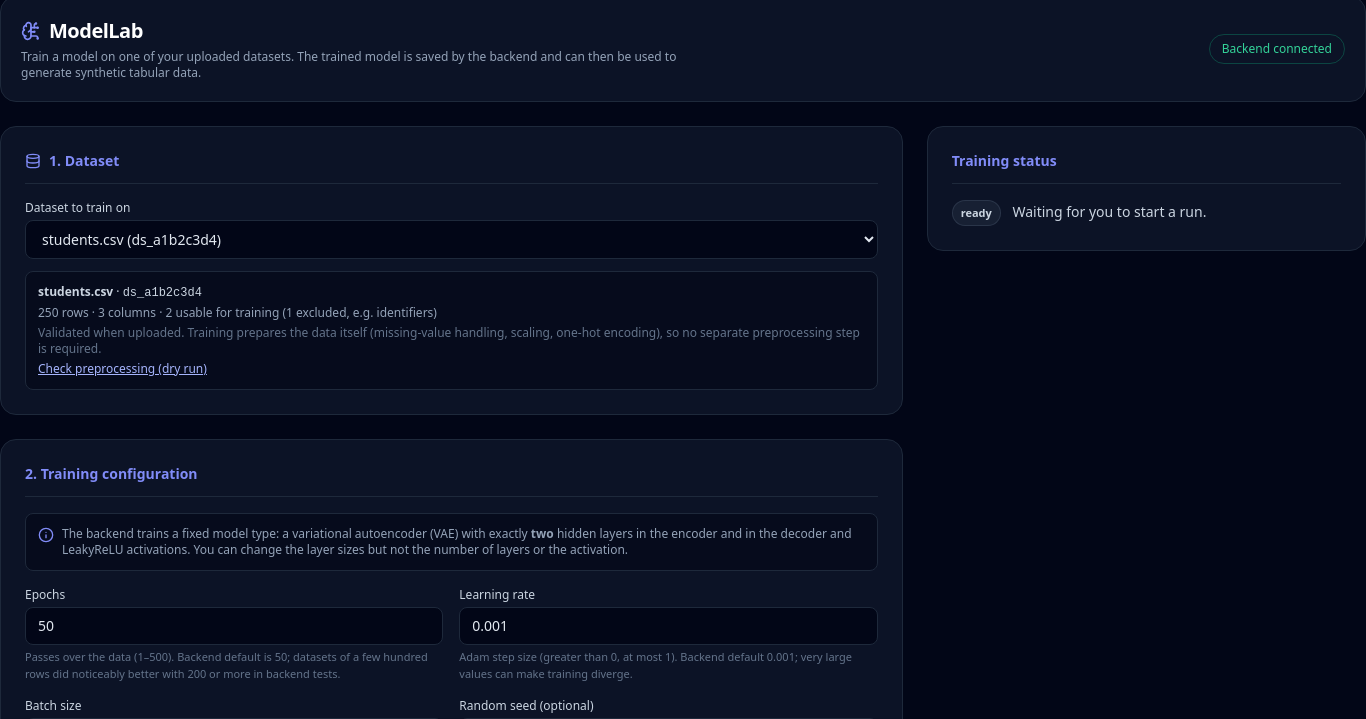
Test case: ModelLab: datasets › lets the user pick another dataset and trains on the selected one
Select "sales.csv (ds_second01)" in the dropdown labelled "Dataset to train on" at x=451, y=240, box [25,220,878,259]
(page scrolled)
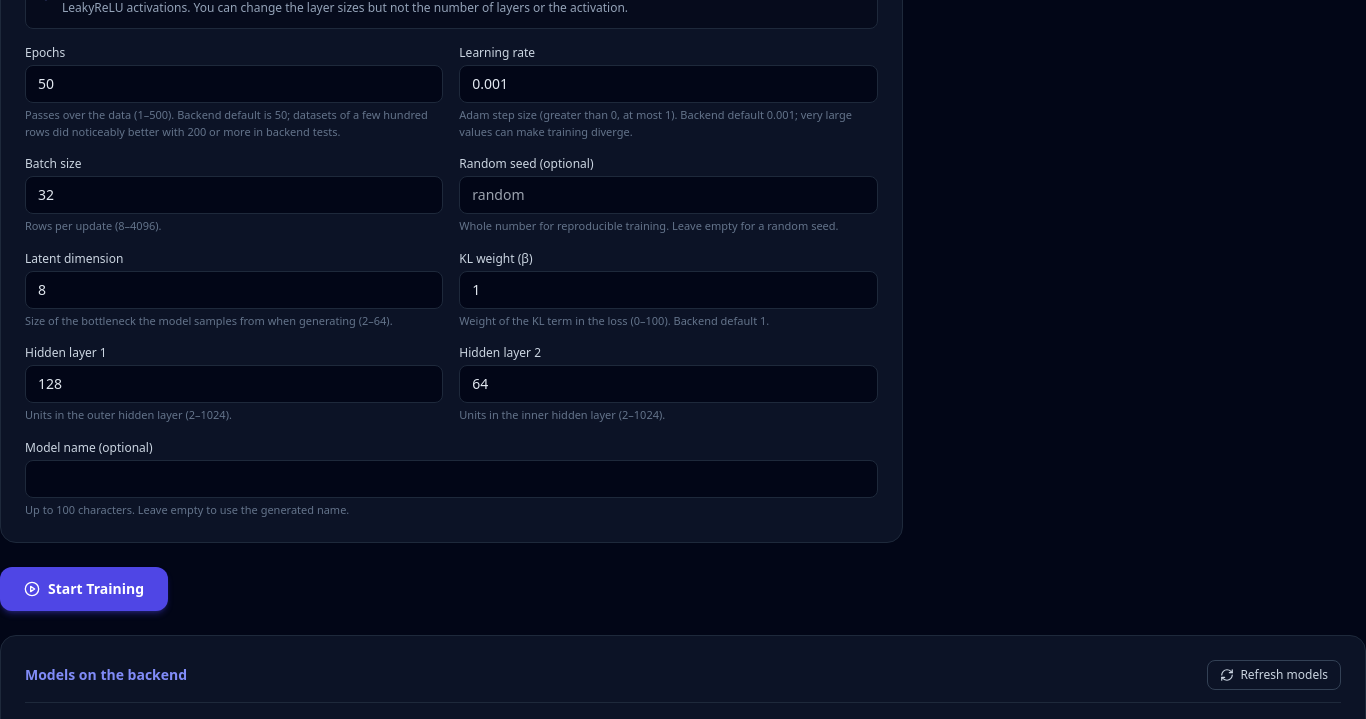
Click the button "Start Training" at x=84, y=589, box [0,567,168,611]
(page scrolled)
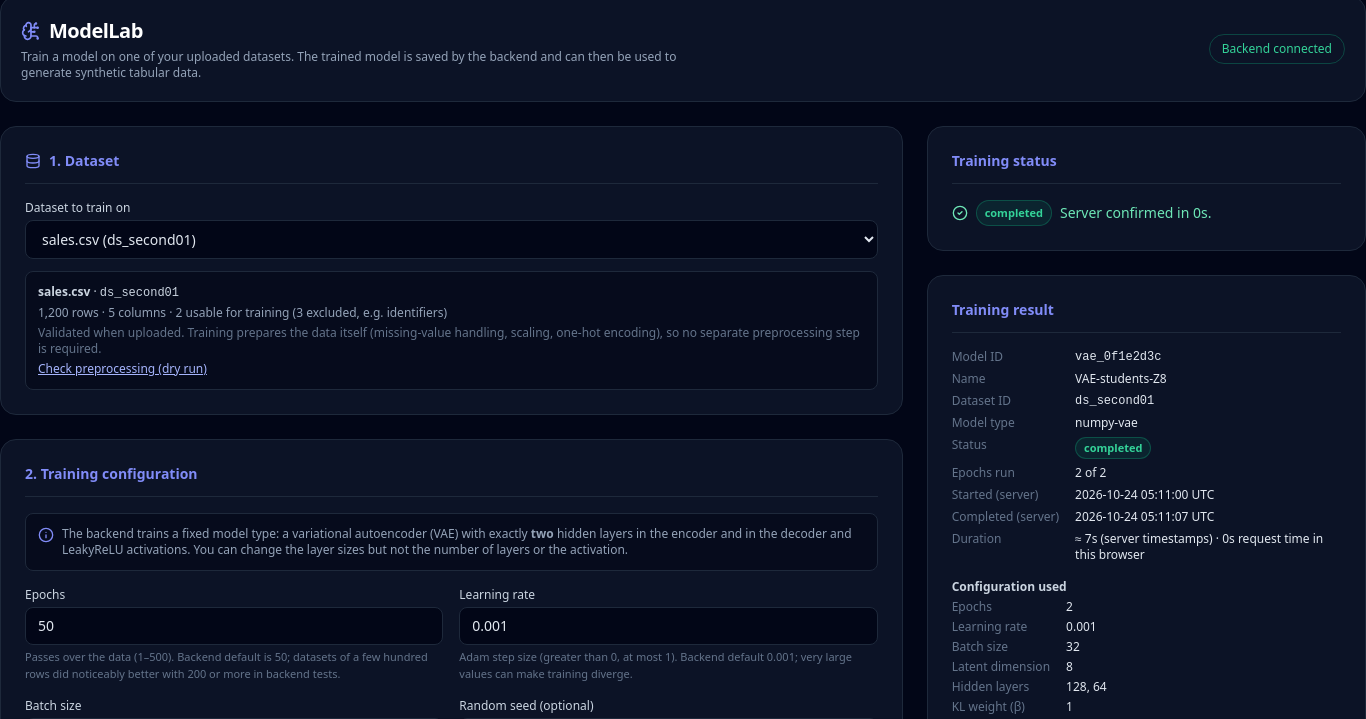
Check: the text "ds_second01" next to "sales.csv" is shown, box [100,286,179,300]
Check: the element with test id "status-completed" is shown, box [952,200,1212,226]
